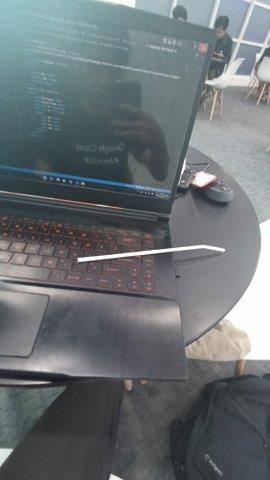sedotan: (78, 245, 225, 262)
